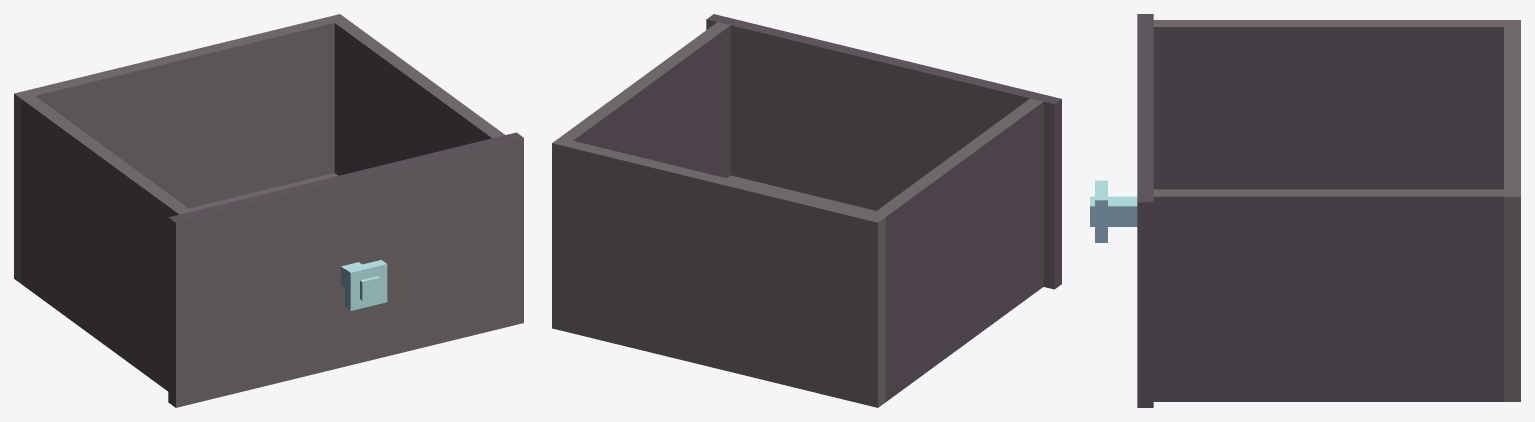
The model's file is Side Drawer .fbx.
The picture shows the model from 3 angles, left to right: view 1: azimuth 30°, elevation 25°; view 2: azimuth 150°, elevation 25°; view 3: azimuth 270°, elevation 25°; orthographic projection. The views are drawn at different scales.
Parts seen in each view (by area): view 1: Side Drawer; view 2: Side Drawer; view 3: Side Drawer.
Boxes of the visible parts, x1,y1,x2,y2 form: Side Drawer: (14, 14, 523, 407); Side Drawer: (552, 14, 1061, 407); Side Drawer: (1090, 14, 1520, 407).
Bounding box in the file's own units: 117 × 59.41 × 113.
